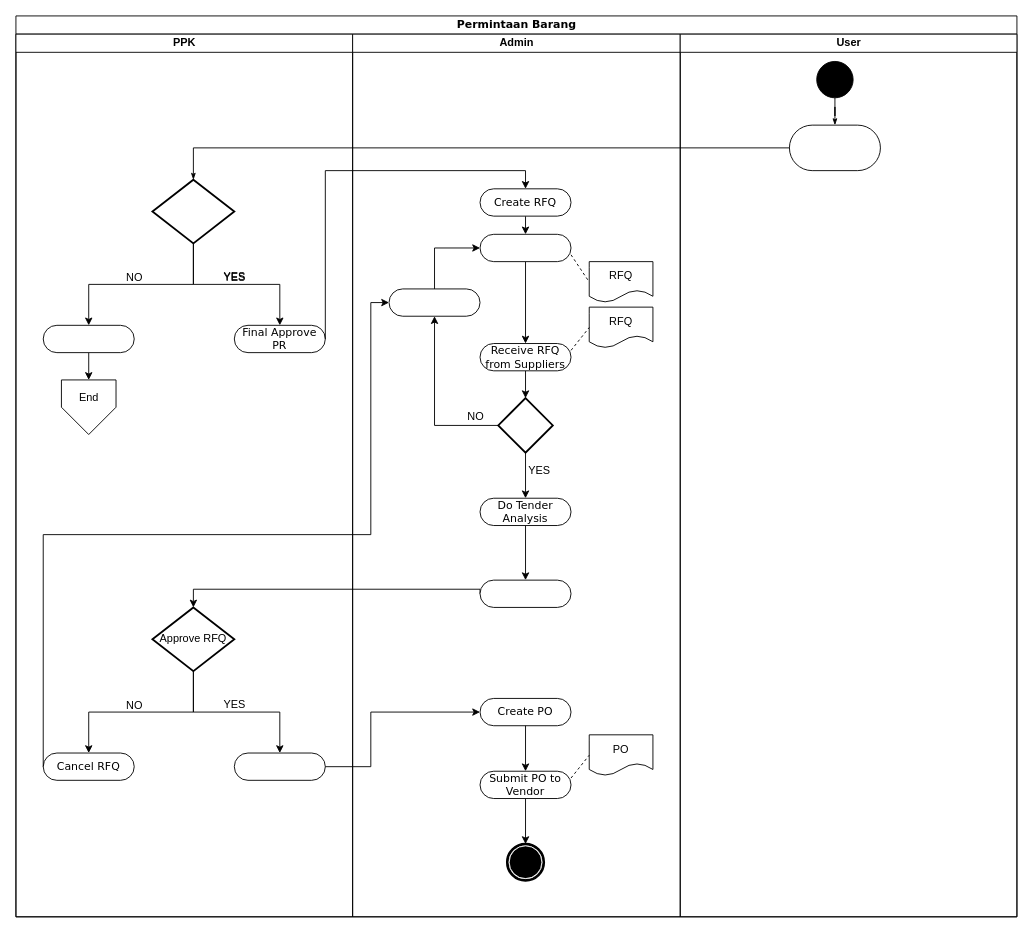
The diagram is 1033 pixels wide and 933 high, and some of its shapes have lost their labels. The shapes that lost their labels are listed below. From the top down, each one's centre as x and y in pixels, then its label:
[834,147]: Create Purchase Requisition
[193,211]: Approve PR
[525,247]: Submit RFQ to Suppliers
[434,302]: Make offers
[88,338]: Cancel PR
[525,425]: Agree
[525,593]: Submit RFQ to PPK
[279,766]: Final Approve RFQ
